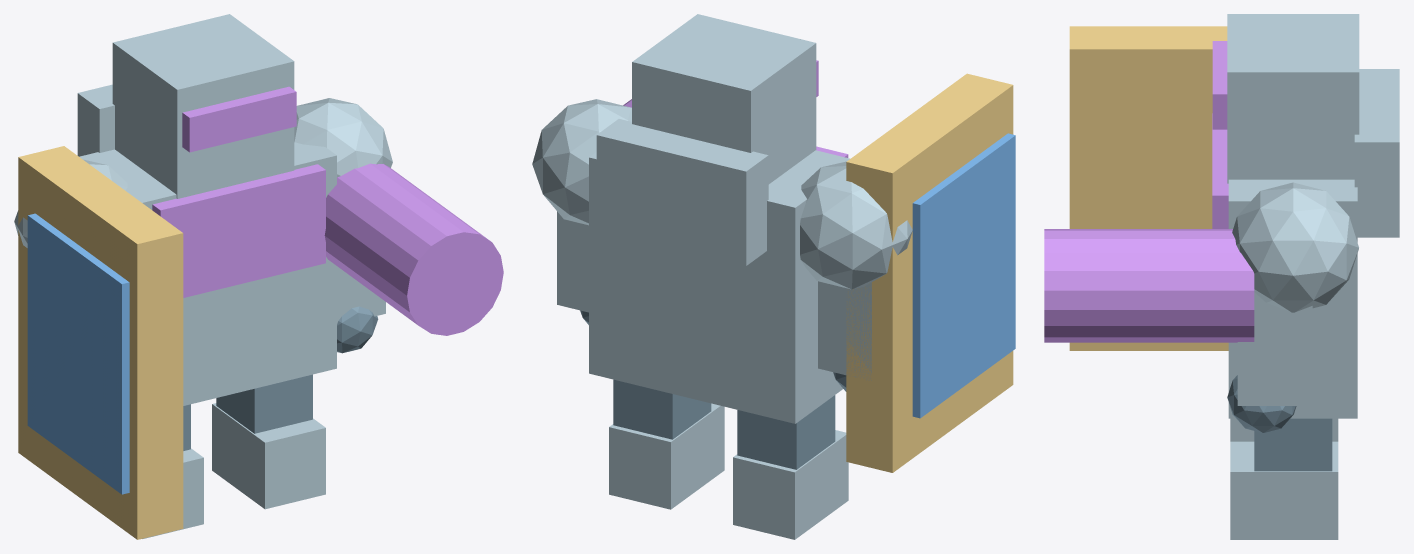
File: rift_guardian.glb
3 views of the same model, side by side, from view 1: azimuth 30°, elevation 25°; view 2: azimuth 150°, elevation 25°; view 3: azimuth 270°, elevation 25° (orthographic). The views are drawn at different scales.
Parts seen in each view (by area): view 1: heavy_shield_15, helmet_6, hex_shield_field_16, shield_cannon_17, torso_4, chestplate_5, boots_2, shoulder_joint_11, visor_7, leg_armor_3, power_backpack_14, boots_0 (+3 smaller); view 2: torso_4, heavy_shield_15, hex_shield_field_16, helmet_6, power_backpack_14, shoulder_joint_8, boots_2, boots_0, shoulder_joint_11, leg_armor_1, arm_armor_9, leg_armor_3 (+1 smaller); view 3: heavy_shield_15, shield_cannon_17, helmet_6, shoulder_joint_11, torso_4, boots_2, power_backpack_14, arm_armor_12, leg_armor_3, chestplate_5, wrist_joint_13, visor_7 (+1 smaller).
Boxes of the visible parts, box(x1,y1,x2,y2) form: heavy_shield_15: box(18, 146, 183, 539); helmet_6: box(112, 14, 294, 198); hex_shield_field_16: box(27, 213, 129, 494); shield_cannon_17: box(324, 163, 503, 335); torso_4: box(79, 142, 336, 405); chestplate_5: box(152, 164, 325, 297); boots_2: box(212, 403, 325, 509); shoulder_joint_11: box(294, 98, 392, 177); visor_7: box(182, 86, 296, 152); leg_armor_3: box(216, 374, 312, 433); power_backpack_14: box(77, 84, 114, 156); boots_0: box(142, 448, 203, 538); torso_4: box(589, 150, 850, 423); heavy_shield_15: box(846, 73, 1013, 472); hex_shield_field_16: box(912, 133, 1015, 418); helmet_6: box(632, 14, 816, 184); power_backpack_14: box(596, 119, 768, 265); shoulder_joint_8: box(800, 161, 912, 289); boots_2: box(609, 403, 724, 509); boots_0: box(733, 430, 848, 539); shoulder_joint_11: box(532, 99, 631, 225); leg_armor_1: box(737, 395, 835, 469); arm_armor_9: box(818, 281, 871, 380); leg_armor_3: box(613, 379, 711, 439); heavy_shield_15: box(1069, 26, 1228, 350); shield_cannon_17: box(1044, 229, 1254, 342); helmet_6: box(1227, 14, 1359, 183); shoulder_joint_11: box(1232, 182, 1358, 312); torso_4: box(1228, 179, 1357, 418); boots_2: box(1230, 441, 1338, 539); power_backpack_14: box(1354, 69, 1399, 237); arm_armor_12: box(1237, 292, 1312, 405); leg_armor_3: box(1254, 418, 1332, 471); chestplate_5: box(1212, 113, 1228, 228); wrist_joint_13: box(1227, 375, 1296, 432); visor_7: box(1212, 41, 1227, 129).
Bounding box in the file's own units: 1.44 × 1.66 × 1.18.
